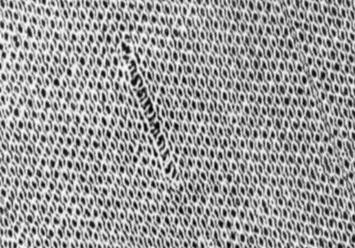slub: (116, 34, 184, 187)
